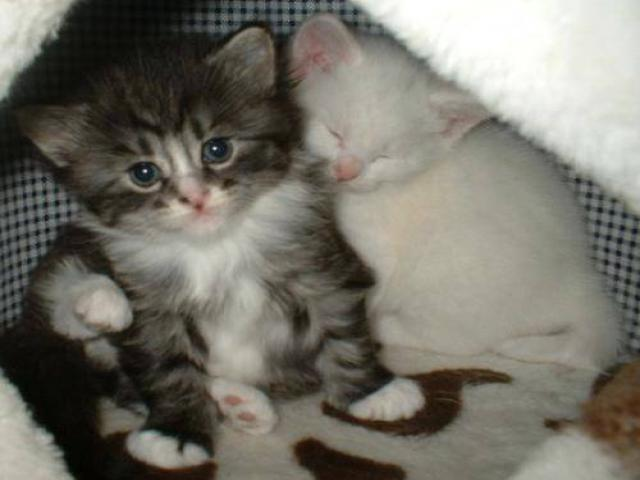cat: (20, 20, 514, 404)
